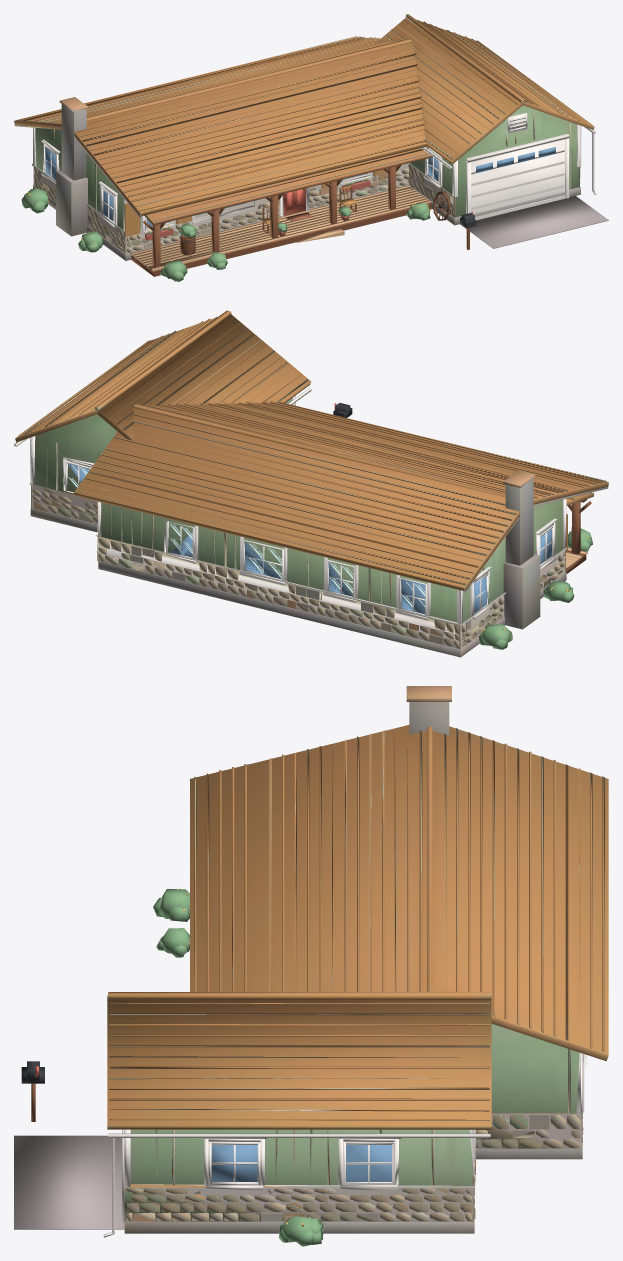
File: ranch-house.glb
3 views of the same model, one above another, from view 1: azimuth 30°, elevation 25°; view 2: azimuth 150°, elevation 25°; view 3: azimuth 270°, elevation 25° (orthographic). The views are drawn at different scales.
Visible parts, largest first — view 1: ranch-house_body, ranch-house_details; view 2: ranch-house_body, ranch-house_details; view 3: ranch-house_body, ranch-house_details.
Part boxes in pixels (x1,y1,x2,y2): ranch-house_body: [14, 14, 594, 260]; ranch-house_details: [21, 112, 608, 281]; ranch-house_body: [15, 310, 608, 657]; ranch-house_details: [14, 387, 592, 649]; ranch-house_body: [107, 686, 608, 1233]; ranch-house_details: [14, 888, 586, 1246].
Size of the model in its own units: 20.11 by 5.28 by 13.75.
2 materials, 2 textured.
